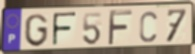5: (82, 11, 103, 46)
7: (165, 7, 188, 44)
C: (138, 10, 159, 44)
F: (107, 9, 134, 47), (51, 12, 78, 49)
G: (24, 13, 50, 48)
